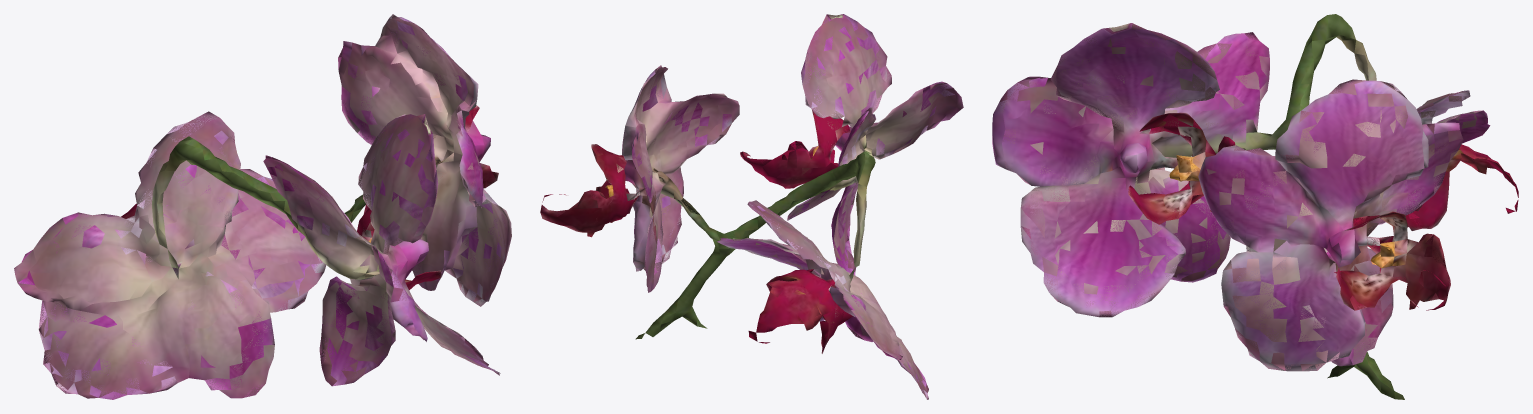
3 views of the same model, side by side, from view 1: azimuth 30°, elevation 25°; view 2: azimuth 150°, elevation 25°; view 3: azimuth 270°, elevation 25° (orthographic). The views are drawn at different scales.
Visible parts, largest first — view 1: 1337e928; view 2: 1337e928; view 3: 1337e928.
Part boxes in pixels (x1,y1,x2,y2): 1337e928: [14, 14, 511, 399]; 1337e928: [540, 14, 963, 399]; 1337e928: [992, 14, 1518, 399].
Bounding box in the file's own units: 0.0886 × 0.0605 × 0.0872.
1 material, 1 textured.
